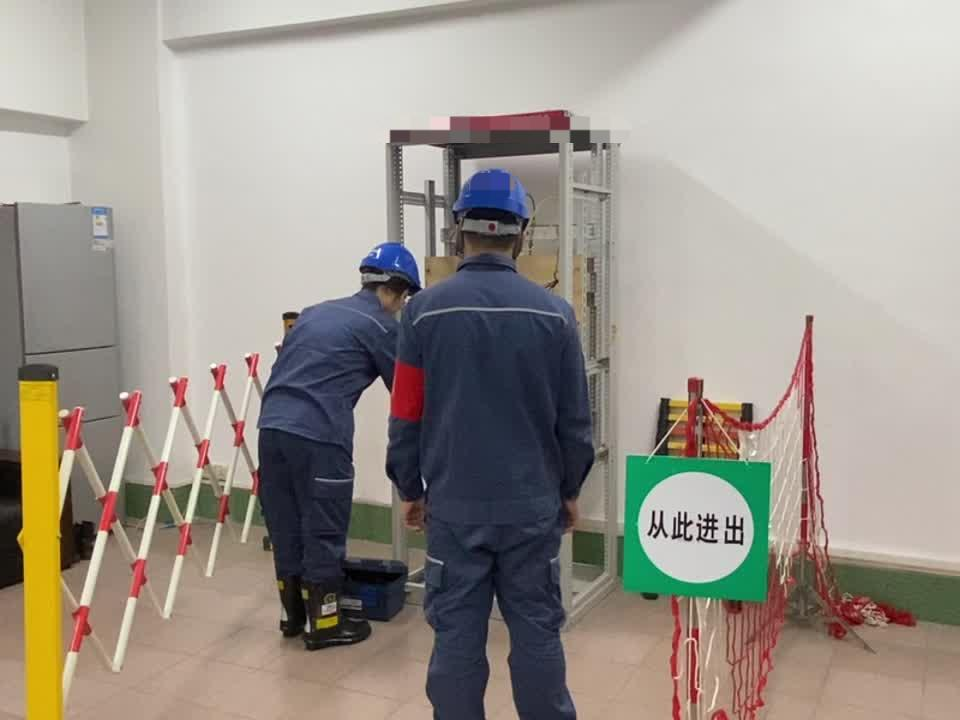halt: (450, 169, 537, 265), (360, 243, 424, 309)
noear: (386, 278, 408, 308)
